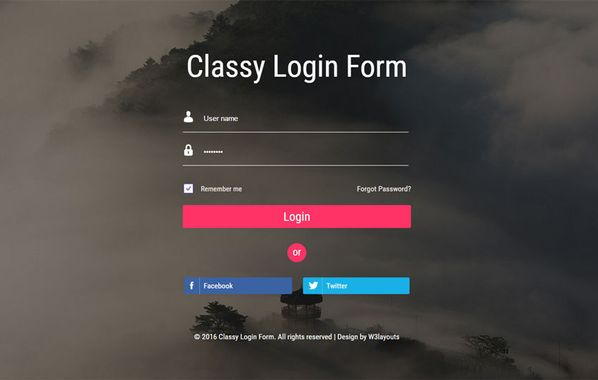_form_: (81, 1, 497, 380)
button: (181, 202, 413, 231), (183, 275, 296, 297), (302, 275, 412, 297)
checkbox: (181, 182, 194, 195)
checkbox_with_label: (180, 181, 243, 196)
field_line: (180, 108, 414, 135), (181, 142, 412, 169)
